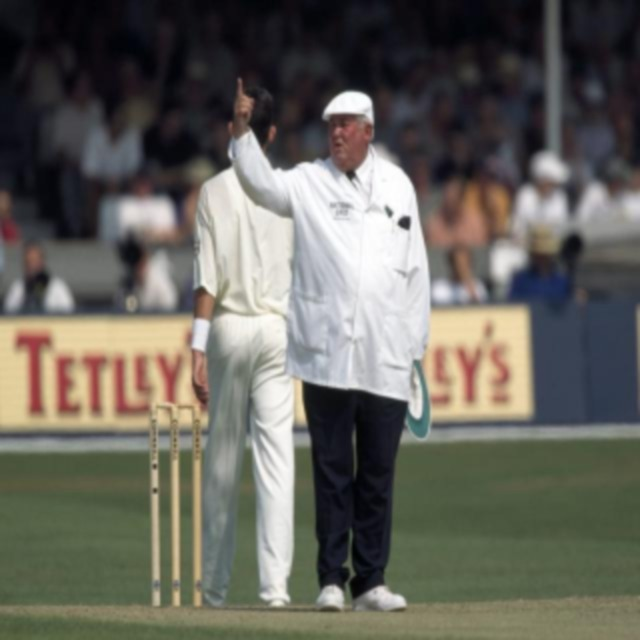Out: (225, 63, 438, 614)
